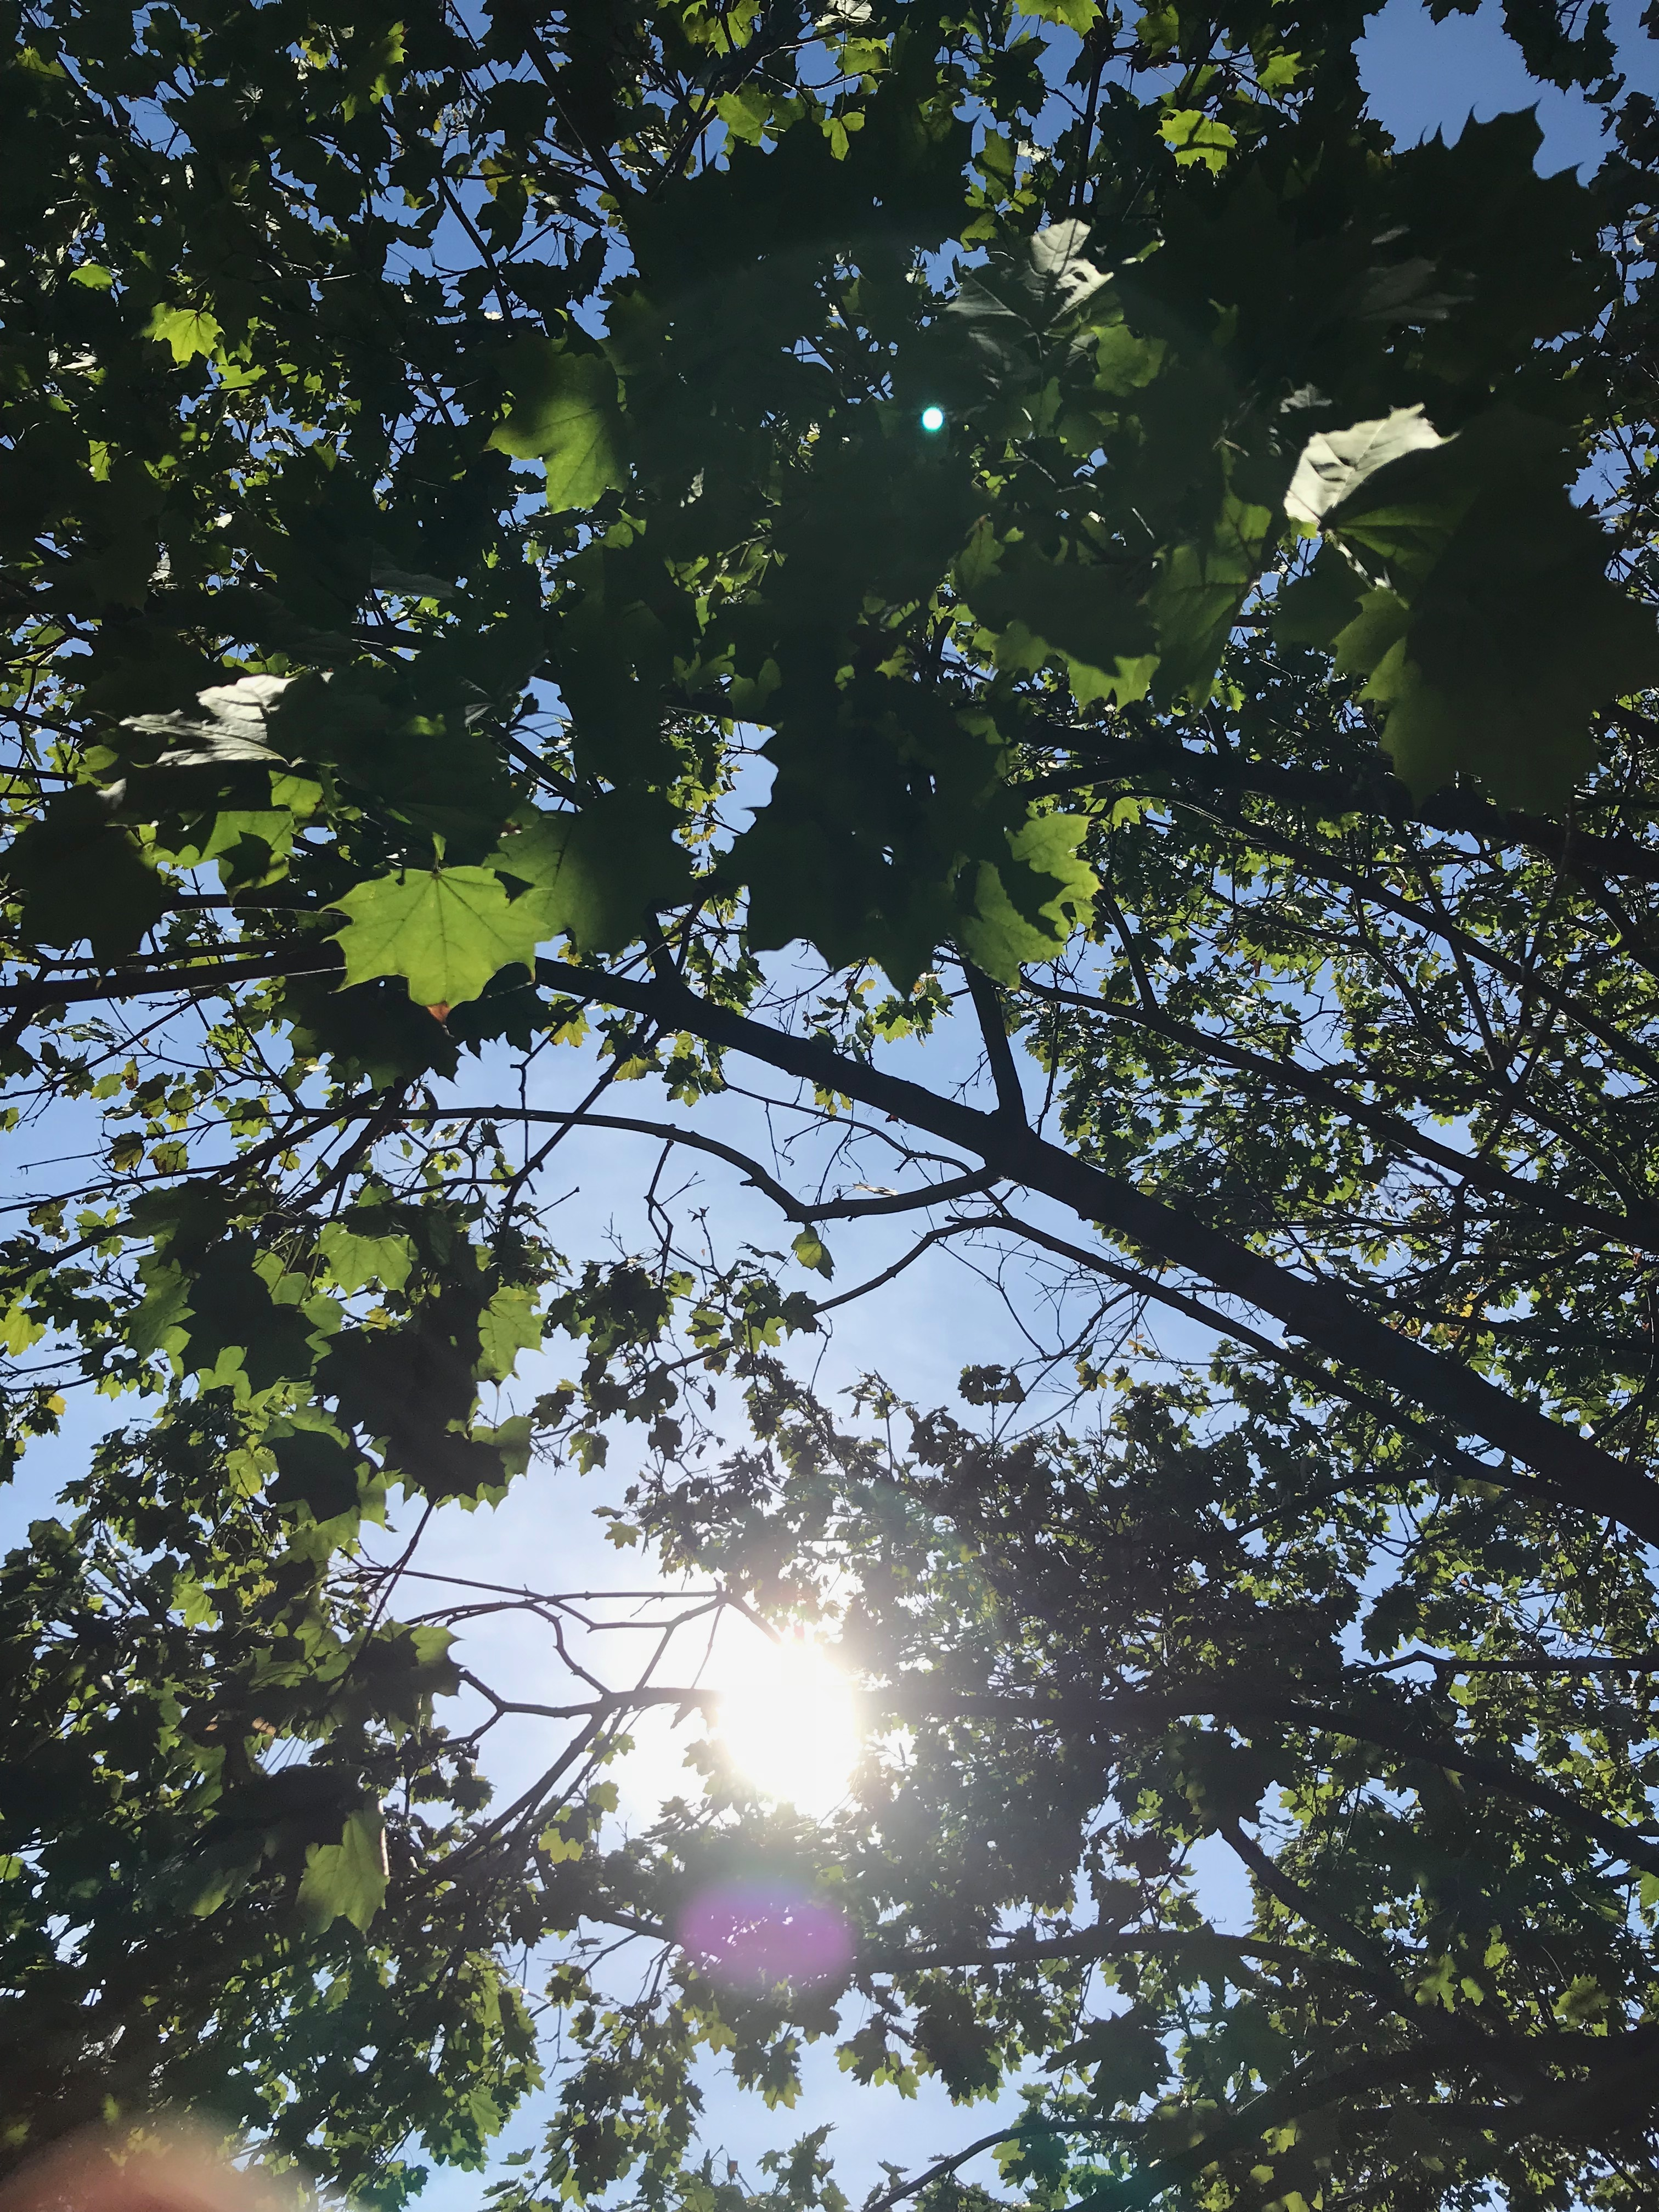flare: (918, 402, 948, 435)
